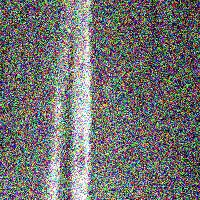inclusion: (146, 4, 166, 74), (173, 5, 192, 44), (22, 0, 34, 23)
scratches: (45, 0, 100, 199)
